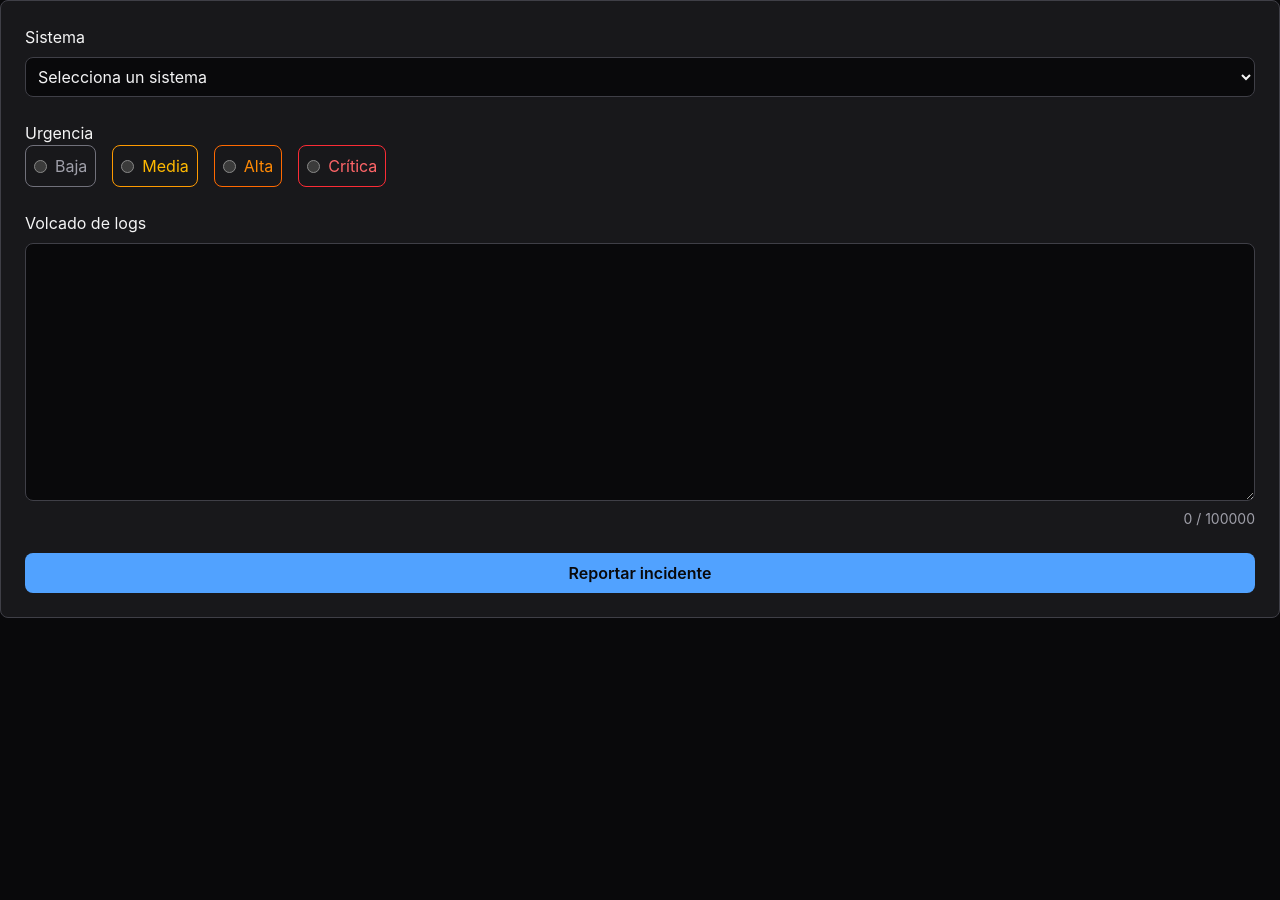
Test: IncidentReportForm › muestra el contador de caracteres del textarea de logs
Expected: the text "0 / 100000" is shown, [1183,509,1255,529]
Type "hola" into the text box labelled "Volcado de logs" at (640, 372), box [25,243,1255,501]
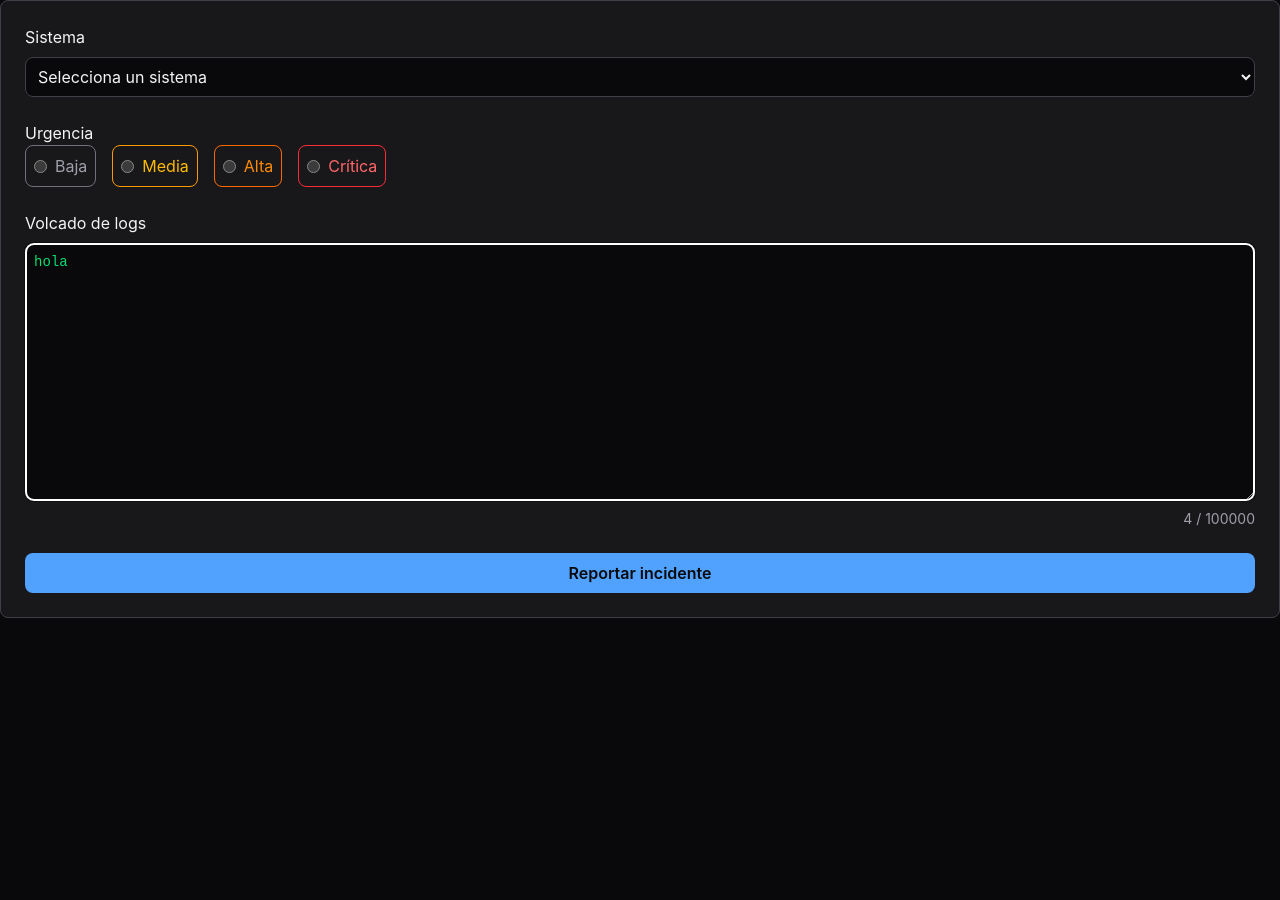
Now the text "4 / 100000" is shown, box [1183,509,1255,529]
